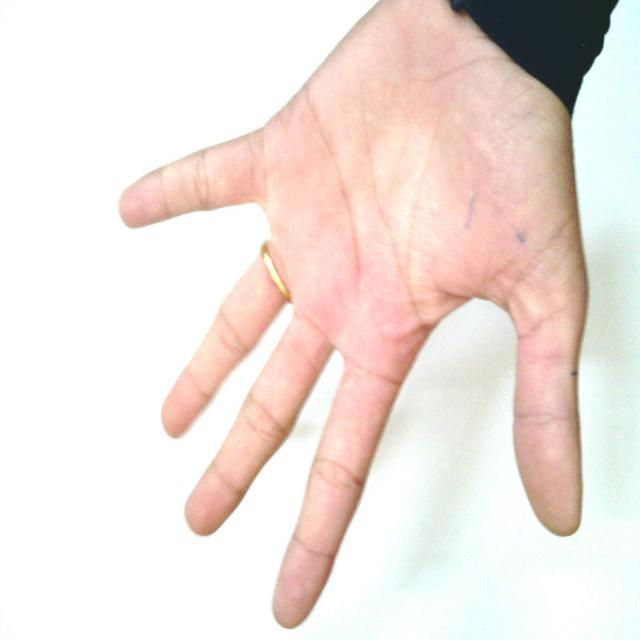others: (96, 1, 628, 630)
